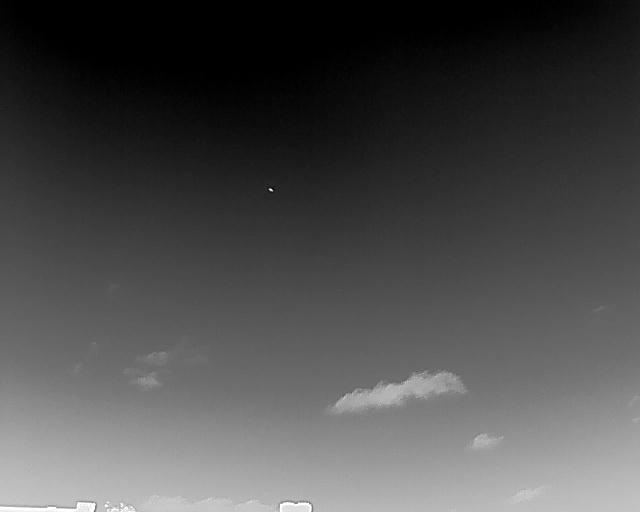fpv-drone: (267, 187, 274, 192)
